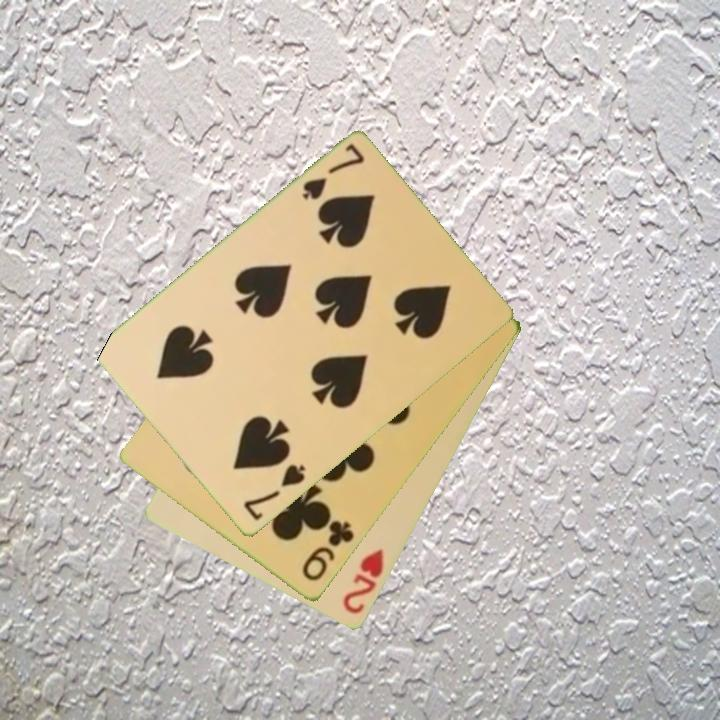2h: (339, 545, 387, 618)
7s: (298, 140, 368, 204), (239, 461, 309, 524)
9c: (298, 517, 358, 585)
